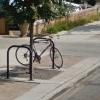Bicycle: (11, 30, 66, 72)
